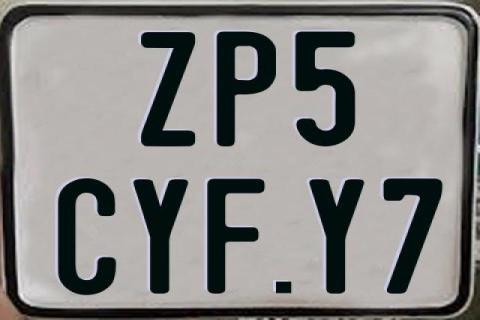0: (294, 30, 355, 150), (380, 178, 440, 296)
C: (55, 178, 117, 300)
F: (205, 178, 269, 296)
P: (214, 29, 279, 145)
Y: (134, 177, 191, 293), (309, 180, 365, 296)
Z: (140, 32, 194, 146)
